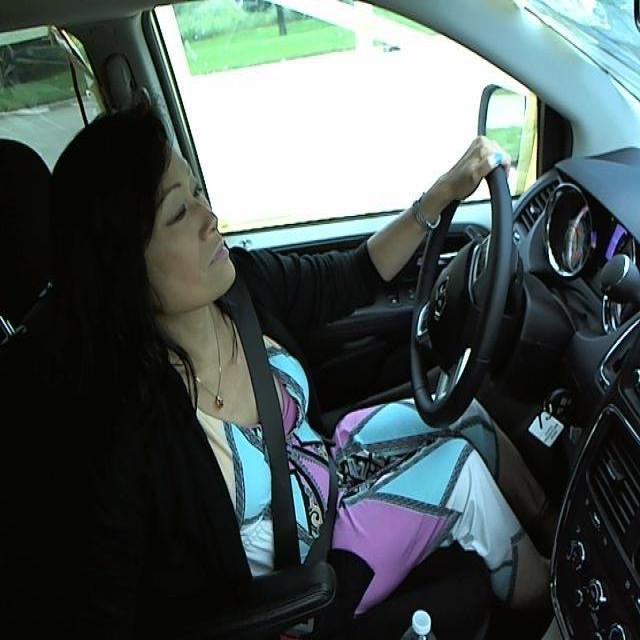seatbelt: (233, 318, 343, 590)
